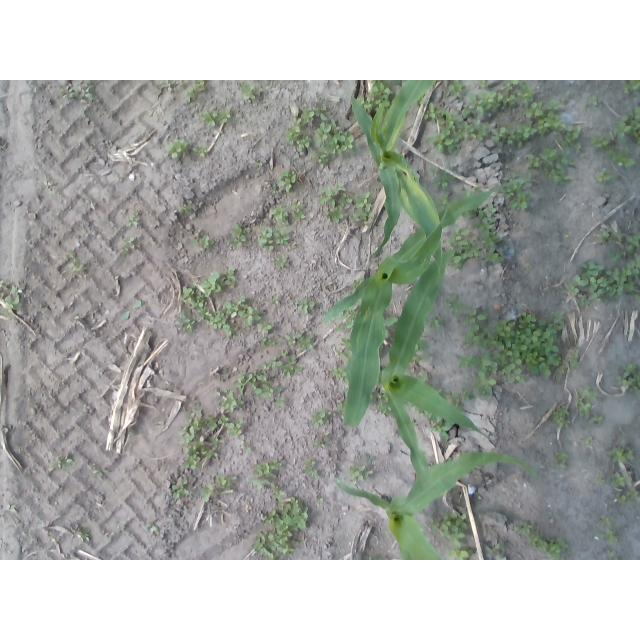Maize: (324, 179, 523, 426), (379, 248, 497, 477), (338, 452, 537, 560), (351, 82, 443, 273)
Weeds: (182, 358, 283, 471), (431, 83, 582, 154), (496, 312, 579, 384), (176, 285, 273, 338), (250, 477, 308, 560), (289, 104, 354, 168), (566, 259, 640, 309), (320, 183, 376, 226), (449, 230, 504, 267), (526, 149, 576, 184), (462, 306, 496, 346), (434, 513, 469, 548), (502, 174, 534, 209), (615, 106, 640, 145), (529, 536, 568, 561), (612, 229, 640, 261), (456, 350, 498, 371), (607, 439, 636, 463), (366, 81, 391, 108), (616, 365, 640, 392), (474, 370, 496, 396), (201, 271, 222, 297), (285, 331, 315, 349), (45, 456, 75, 473), (254, 459, 282, 477), (608, 147, 634, 166), (446, 296, 469, 317), (278, 168, 297, 192), (283, 356, 305, 376), (165, 138, 187, 158), (433, 418, 452, 440), (121, 301, 142, 320), (1, 295, 20, 315), (553, 408, 571, 429), (348, 467, 373, 482), (230, 224, 247, 246), (311, 409, 330, 428), (269, 205, 288, 224), (259, 226, 274, 250), (475, 211, 494, 229), (172, 478, 189, 498), (448, 548, 476, 560), (190, 236, 215, 249), (217, 475, 236, 492), (489, 540, 508, 557), (76, 84, 96, 100), (447, 80, 465, 97), (445, 390, 463, 407), (69, 250, 83, 271), (219, 268, 235, 285), (199, 486, 215, 503), (302, 460, 318, 477), (377, 394, 390, 414), (292, 200, 305, 220), (581, 384, 597, 400), (610, 472, 626, 488), (240, 84, 256, 100), (277, 230, 292, 247), (591, 134, 610, 147), (595, 530, 614, 542), (274, 253, 290, 267), (298, 299, 314, 313), (624, 80, 640, 94), (59, 86, 76, 99), (123, 237, 135, 255), (439, 173, 454, 187), (201, 111, 216, 125), (216, 109, 231, 123), (415, 344, 428, 360), (554, 451, 567, 465), (334, 324, 354, 333), (578, 399, 590, 413), (77, 527, 89, 541), (11, 284, 25, 296), (437, 196, 448, 211), (487, 203, 498, 218), (425, 102, 435, 118), (602, 515, 618, 525), (128, 215, 141, 227), (337, 348, 352, 358), (519, 523, 534, 533), (260, 338, 276, 347), (598, 172, 611, 183), (599, 230, 610, 243), (315, 439, 328, 450), (504, 80, 518, 90), (193, 147, 207, 157), (431, 316, 442, 328), (241, 441, 252, 453), (626, 489, 638, 500), (333, 368, 347, 377), (591, 416, 605, 425), (344, 309, 356, 319), (463, 389, 475, 399), (386, 318, 399, 327), (614, 494, 627, 503), (274, 397, 285, 407), (195, 81, 206, 91), (181, 205, 192, 215), (588, 96, 597, 108), (93, 470, 108, 477), (419, 372, 430, 381), (429, 167, 437, 178), (581, 436, 591, 444), (607, 548, 617, 556), (151, 525, 160, 533), (188, 90, 195, 100), (271, 297, 279, 305), (598, 473, 604, 483), (480, 80, 489, 86), (280, 349, 288, 355), (118, 523, 126, 529), (316, 498, 325, 503), (420, 97, 425, 104)
